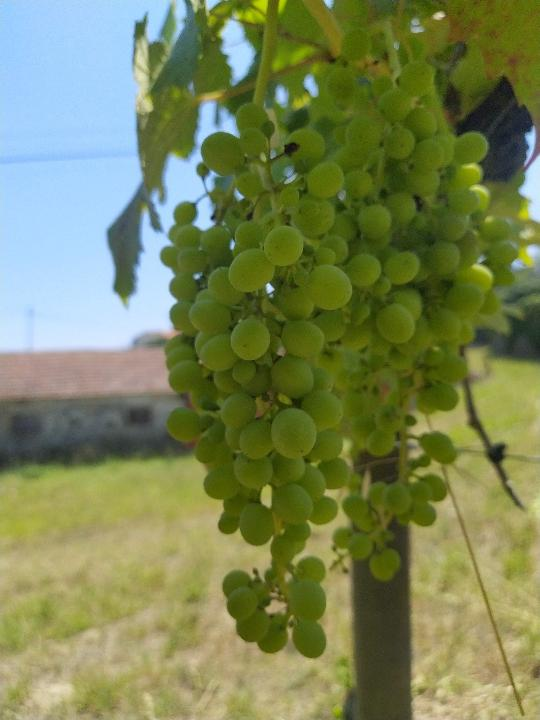grape: (158, 28, 520, 665)
